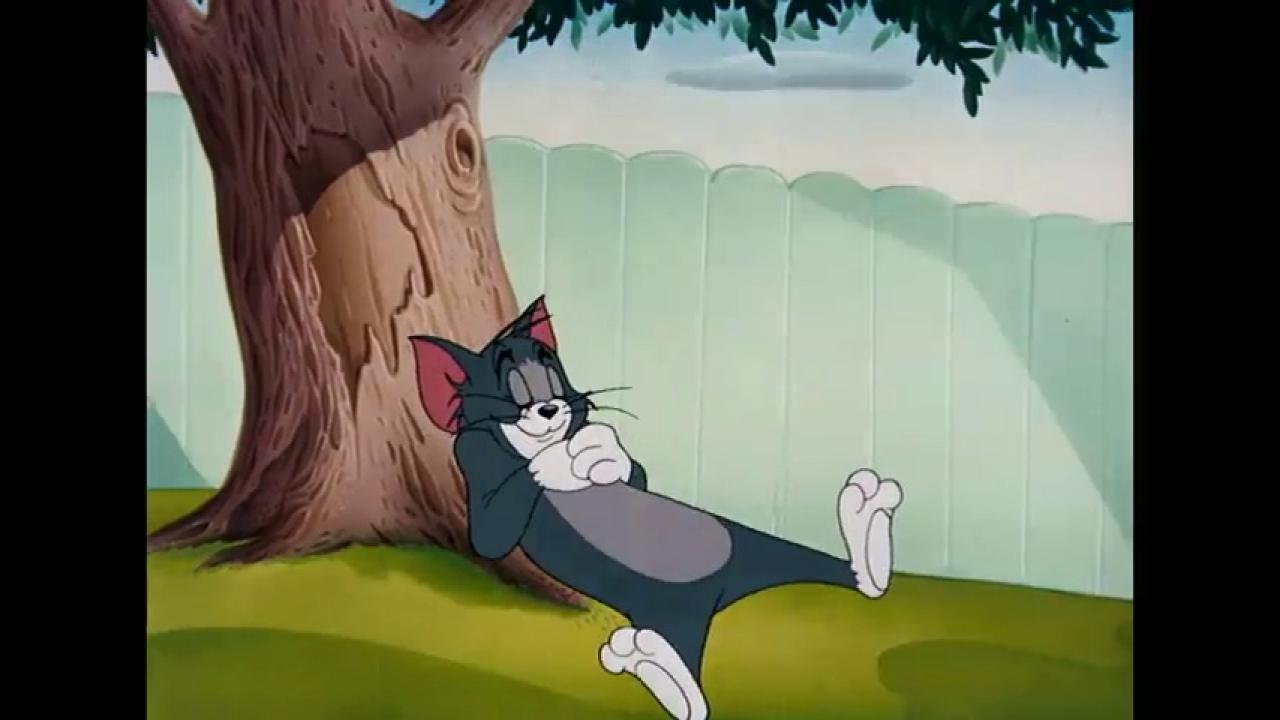Tom: (408, 292, 904, 720)
